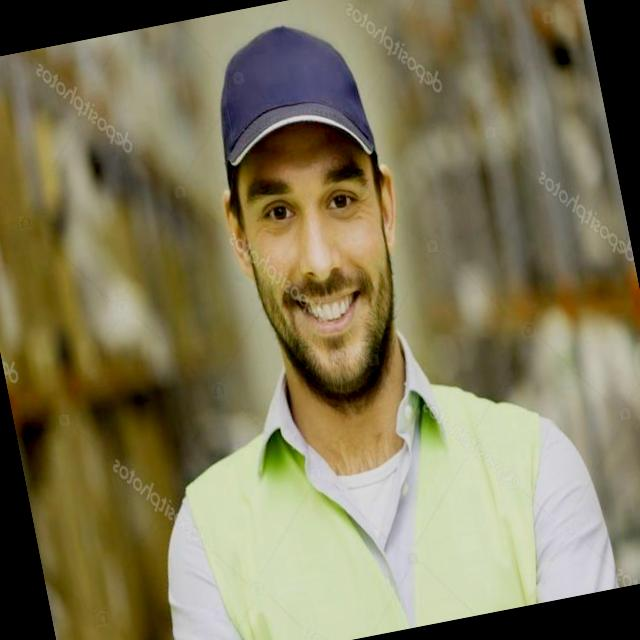vest: (193, 351, 573, 640)
